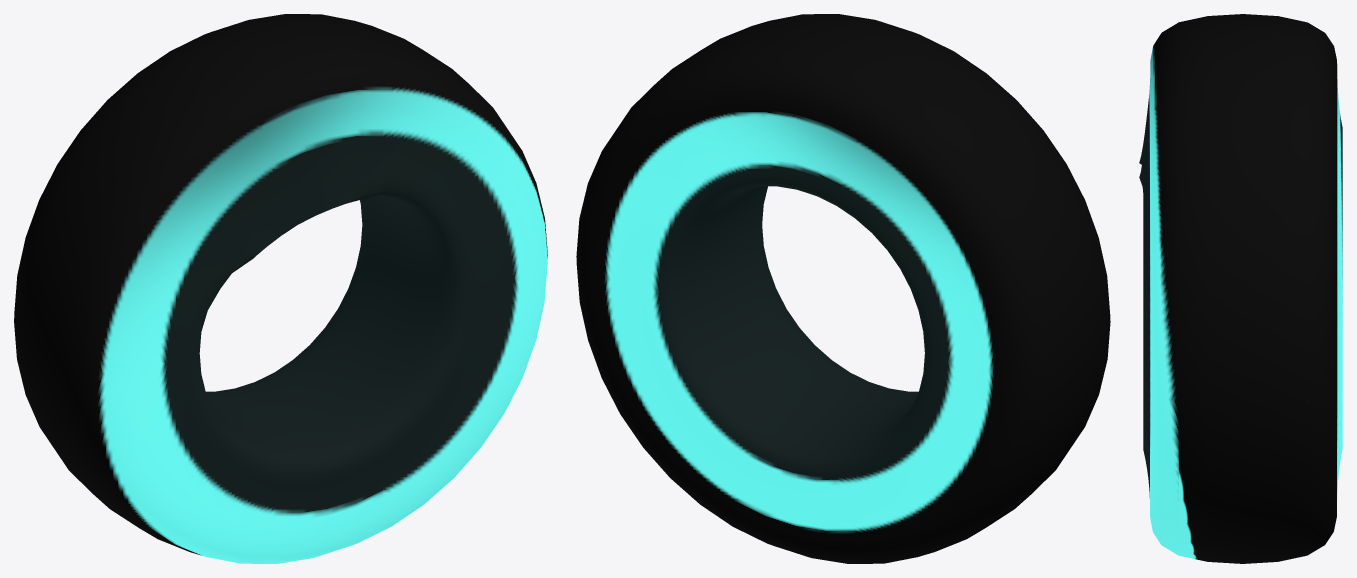
The model's file is Front_Wheel.fbx.
3 views of the same model, side by side, from view 1: azimuth 30°, elevation 25°; view 2: azimuth 150°, elevation 25°; view 3: azimuth 270°, elevation 25° (orthographic).
Parts seen in each view (by area): view 1: Front_Wheel1; view 2: Front_Wheel1; view 3: Front_Wheel1.
Boxes of the visible parts, bbox=[...] form: Front_Wheel1: bbox=[14, 14, 547, 563]; Front_Wheel1: bbox=[576, 14, 1110, 563]; Front_Wheel1: bbox=[1139, 14, 1342, 563].
Bounding box in the file's own units: 14.35 × 14.34 × 5.31.
